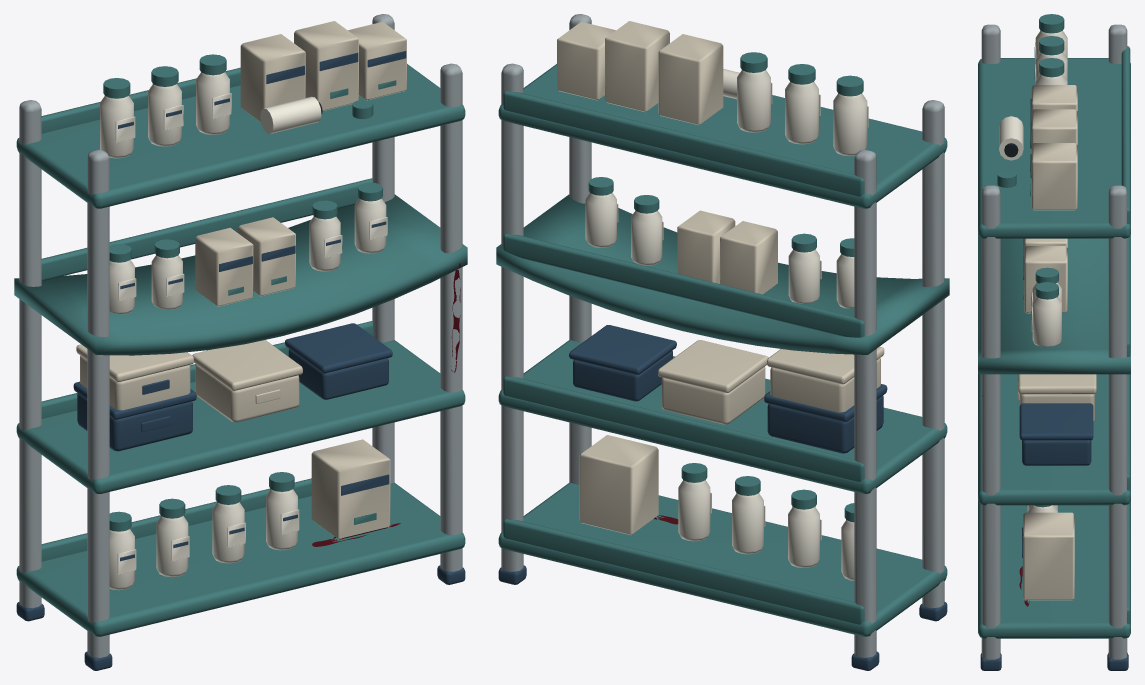
Rendered from pharmacy_medicine_shelf.glb.
3 renders of one model, left to right at view 1: azimuth 30°, elevation 25°; view 2: azimuth 150°, elevation 25°; view 3: azimuth 270°, elevation 25°, orthographic. The views are drawn at different scales.
Visible parts, largest first — view 1: Static_Shell_Mesh; view 2: Static_Shell_Mesh; view 3: Static_Shell_Mesh.
Part boxes in pixels (<box>): Static_Shell_Mesh: <box>14,14,467,670</box>; Static_Shell_Mesh: <box>496,14,949,670</box>; Static_Shell_Mesh: <box>978,14,1130,670</box>.
Size of the model in its own units: 1.39 by 1.95 by 0.5305.
